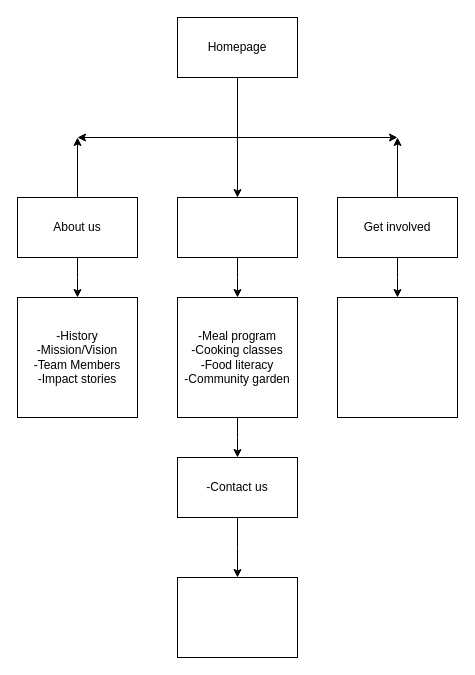
The diagram is 475 pixels wide and 675 high, and some of its shapes have lost their labels. Each missing label, with the centre of its shape:
-Contact form -Location one -Location two -Social media: the point at 237,617
-Volunteer opportunities -Donation options -Sponsor enquiry: the point at 397,357
Our program: the point at 237,227
